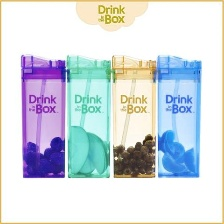carton: (157, 53, 207, 181), (16, 52, 66, 178), (111, 52, 155, 183), (65, 53, 110, 180)
